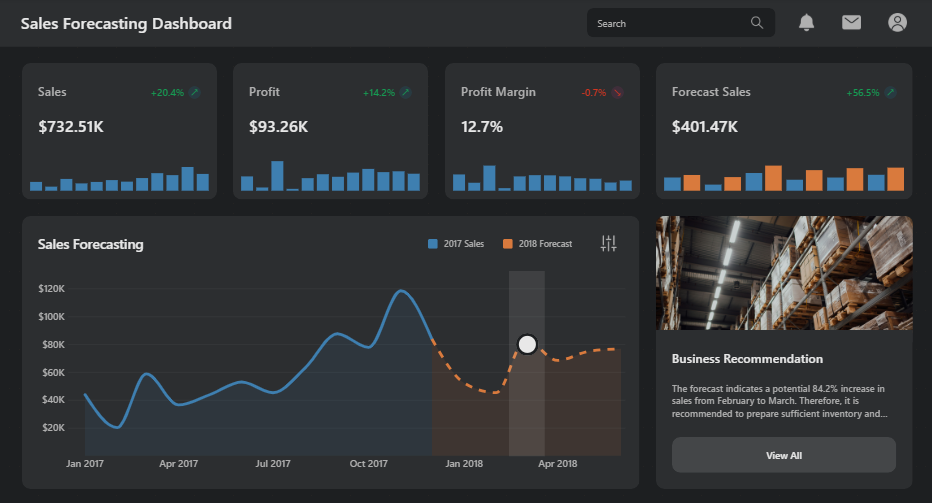

This screenshot's page, from the dashboard's own definition file:
{"tool":"powerbi","page":{"name":"Sales Forecasting Dashboard","canvas":[2300,1250],"ordinal":0},"visuals":[{"type":"shape","title":"Background","box":[-100,0,2400,120],"z":0,"group":"g2"},{"type":"group","id":"g1","title":"Sales","box":[56,160,480,336],"z":0,"group":"g4"},{"type":"shape","title":"Background","box":[56,160,480,336],"z":0,"group":"g1"},{"type":"shape","title":"Background","box":[576,160,480,336],"z":0,"group":"g3"},{"type":"shape","title":"Background","box":[1096,160,480,336],"z":0,"group":"g5"},{"type":"shape","title":"Background","box":[1616,160,632,336],"z":0,"group":"g6"},{"type":"shape","title":"Title_Forecasting","box":[96,576,440,56],"z":0,"group":"g7"},{"type":"slicer","fields":{"Values":["slicer.Navigation"]},"box":[264,0,1128,56],"z":500},{"type":"group","id":"g2","title":"Top","box":[-100,0,2400,120],"z":1000},{"type":"shape","title":"Title","box":[56,0,528,120],"z":1000,"group":"g2"},{"type":"group","id":"g3","title":"Profit","box":[576,160,480,336],"z":1000,"group":"g4"},{"type":"shape","title":"Title","box":[96,200,208,56],"z":1000,"group":"g1"},{"type":"shape","title":"Title","box":[616,200,208,56],"z":1000,"group":"g3"},{"type":"shape","title":"Title","box":[1136,200,208,56],"z":1000,"group":"g5"},{"type":"shape","title":"Title","box":[1656,200,272,56],"z":1000,"group":"g6"},{"type":"shape","title":"Legend_Box","box":[1056,592,24,24],"z":1000,"group":"g7"},{"type":"shape","title":"Search","box":[1448,24,464,72],"z":2000,"group":"g2"},{"type":"group","id":"g4","title":"KPI","box":[56,160,2192,336],"z":2000},{"type":"group","id":"g5","title":"Profit_Margin","box":[1096,160,480,336],"z":2000,"group":"g4"},{"type":"card","title":"YoY","fields":{"Values":["measure.sales_YoY_%"]},"box":[360,200,104,64],"z":2000,"group":"g1"},{"type":"card","title":"YoY","fields":{"Values":["measure.profit_YoY_%"]},"box":[880,200,104,64],"z":2000,"group":"g3"},{"type":"card","title":"YoY","fields":{"Values":["measure.profit_margin_YoY_%"]},"box":[1416,200,88,64],"z":2000,"group":"g5"},{"type":"card","title":"YoY","fields":{"Values":["measure.sales_h1_%"]},"box":[2080,200,88,64],"z":2000,"group":"g6"},{"type":"shape","title":"Legend","box":[1096,576,144,56],"z":2000,"group":"g7"},{"type":"image","title":"Zoom","box":[1848,24,40,72],"z":3000,"group":"g2"},{"type":"group","id":"g6","title":"Forecast_Sales","box":[1616,160,632,336],"z":3000,"group":"g4"},{"type":"shape","title":"YoY_Background","box":[464,216,32,32],"z":3000,"group":"g1"},{"type":"shape","title":"YoY_Background","box":[984,216,32,32],"z":3000,"group":"g3"},{"type":"shape","title":"YoY_Background","box":[1504,216,32,32],"z":3000,"group":"g5"},{"type":"shape","title":"YoY_Background","box":[2176,216,32,32],"z":3000,"group":"g6"},{"type":"shape","title":"Background","box":[56,536,1520,672],"z":3000},{"type":"shape","title":"Legend_Box","box":[1240,592,24,24],"z":3000,"group":"g7"},{"type":"image","title":"Bell","box":[1952,32,72,56],"z":4000,"group":"g2"},{"type":"card","title":"YoY_Icon","fields":{"Values":["measure.sales_YoY_Icon"]},"box":[464,216,32,32],"z":4000,"group":"g1"},{"type":"card","title":"YoY_Icon","fields":{"Values":["measure.profit_YoY_Icon"]},"box":[984,216,32,32],"z":4000,"group":"g3"},{"type":"card","title":"YoY_Icon","fields":{"Values":["measure.profit_margin_YoY_Icon"]},"box":[1504,216,32,32],"z":4000,"group":"g5"},{"type":"card","title":"YoY_Icon","fields":{"Values":["measure.sales_h1_icon"]},"box":[2176,216,32,32],"z":4000,"group":"g6"},{"type":"group","id":"g7","title":"Sales_Forecasting","box":[96,576,1480,592],"z":4000},{"type":"shape","title":"Legend","box":[1280,576,160,56],"z":4000,"group":"g7"},{"type":"image","title":"Email","box":[2064,32,72,56],"z":5000,"group":"g2"},{"type":"card","fields":{"Values":["measure.sales_2017"]},"box":[56,280,240,64],"z":5000,"group":"g1"},{"type":"card","fields":{"Values":["measure.profit_2017"]},"box":[576,280,224,64],"z":5000,"group":"g3"},{"type":"card","fields":{"Values":["measure.profit_margin_2017"]},"box":[1096,280,184,64],"z":5000,"group":"g5"},{"type":"card","fields":{"Values":["measure.sales_h1_2018"]},"box":[1616,280,240,64],"z":5000,"group":"g6"},{"type":"lineChart","title":"Line Chart","fields":{"Category":["df.order_date"],"Y":["measure.sales_2017","measure.sales_forecast"]},"box":[96,672,1480,496],"z":5000,"group":"g7"},{"type":"image","title":"User","box":[2176,32,72,56],"z":6000,"group":"g2"},{"type":"clusteredColumnChart","title":"Bar Chart","fields":{"Category":["df.month_short"],"Y":["measure.sales_2017"]},"box":[56,392,480,104],"z":6000,"group":"g1"},{"type":"clusteredColumnChart","title":"Bar Chart","fields":{"Category":["df.month_short"],"Y":["measure.profit_2017"]},"box":[576,392,480,104],"z":6000,"group":"g3"},{"type":"clusteredColumnChart","title":"Bar Chart","fields":{"Category":["df.month_short"],"Y":["measure.profit_margin_2017"]},"box":[1096,392,480,104],"z":6000,"group":"g5"},{"type":"clusteredColumnChart","title":"Bar Chart","fields":{"Category":["df.month_short"],"Y":["measure.sales_h1_2017","measure.sales_h1_2018"]},"box":[1616,392,632,104],"z":6000,"group":"g6"},{"type":"shape","title":"Highlight_Background","box":[1256,672,88,456],"z":6000,"group":"g7"},{"type":"image","title":"Navigation_Icon","box":[1464,576,72,56],"z":7000},{"type":"shape","title":"Highlight","box":[1272,824,56,56],"z":7000,"group":"g7"},{"type":"shape","title":"Background","box":[1616,536,632,672],"z":9000},{"type":"image","box":[1616,536,632,300],"z":10000},{"type":"shape","title":"Border","box":[1616,816,632,30],"z":11000},{"type":"shape","title":"Title","box":[1656,856,416,56],"z":12000},{"type":"shape","title":"Text","box":[1656,936,536,112],"z":13000},{"type":"shape","title":"View_All","box":[1656,1080,552,88],"z":14000}]}

Visuals, with their boxes in screenshot pixels (x1, y1, x2, y2), scaled from the page's 2300x1250 canvas onto the 932x503 screenshot:
"Background" shape: [x1=0, y1=0, x2=931, y2=48]
"Sales" group: [x1=23, y1=64, x2=217, y2=200]
"Background" shape: [x1=23, y1=64, x2=217, y2=200]
"Background" shape: [x1=233, y1=64, x2=428, y2=200]
"Background" shape: [x1=444, y1=64, x2=639, y2=200]
"Background" shape: [x1=655, y1=64, x2=911, y2=200]
"Title_Forecasting" shape: [x1=39, y1=232, x2=217, y2=254]
slicer - slicer.Navigation: [x1=107, y1=0, x2=564, y2=23]
"Top" group: [x1=0, y1=0, x2=931, y2=48]
"Title" shape: [x1=23, y1=0, x2=237, y2=48]
"Profit" group: [x1=233, y1=64, x2=428, y2=200]
"Title" shape: [x1=39, y1=80, x2=123, y2=103]
"Title" shape: [x1=250, y1=80, x2=334, y2=103]
"Title" shape: [x1=460, y1=80, x2=545, y2=103]
"Title" shape: [x1=671, y1=80, x2=781, y2=103]
"Legend_Box" shape: [x1=428, y1=238, x2=438, y2=248]
"Search" shape: [x1=587, y1=10, x2=775, y2=39]
"KPI" group: [x1=23, y1=64, x2=911, y2=200]
"Profit_Margin" group: [x1=444, y1=64, x2=639, y2=200]
"YoY" card: [x1=146, y1=80, x2=188, y2=106]
"YoY" card: [x1=357, y1=80, x2=399, y2=106]
"YoY" card: [x1=574, y1=80, x2=609, y2=106]
"YoY" card: [x1=843, y1=80, x2=879, y2=106]
"Legend" shape: [x1=444, y1=232, x2=502, y2=254]
"Zoom" image: [x1=749, y1=10, x2=765, y2=39]
"Forecast_Sales" group: [x1=655, y1=64, x2=911, y2=200]
"YoY_Background" shape: [x1=188, y1=87, x2=201, y2=100]
"YoY_Background" shape: [x1=399, y1=87, x2=412, y2=100]
"YoY_Background" shape: [x1=609, y1=87, x2=622, y2=100]
"YoY_Background" shape: [x1=882, y1=87, x2=895, y2=100]
"Background" shape: [x1=23, y1=216, x2=639, y2=486]
"Legend_Box" shape: [x1=502, y1=238, x2=512, y2=248]
"Bell" image: [x1=791, y1=13, x2=820, y2=35]
"YoY_Icon" card: [x1=188, y1=87, x2=201, y2=100]
"YoY_Icon" card: [x1=399, y1=87, x2=412, y2=100]
"YoY_Icon" card: [x1=609, y1=87, x2=622, y2=100]
"YoY_Icon" card: [x1=882, y1=87, x2=895, y2=100]
"Sales_Forecasting" group: [x1=39, y1=232, x2=639, y2=470]
"Legend" shape: [x1=519, y1=232, x2=584, y2=254]
"Email" image: [x1=836, y1=13, x2=866, y2=35]
card - measure.sales_2017: [x1=23, y1=113, x2=120, y2=138]
card - measure.profit_2017: [x1=233, y1=113, x2=324, y2=138]
card - measure.profit_margin_2017: [x1=444, y1=113, x2=519, y2=138]
card - measure.sales_h1_2018: [x1=655, y1=113, x2=752, y2=138]
"Line Chart" lineChart: [x1=39, y1=270, x2=639, y2=470]
"User" image: [x1=882, y1=13, x2=911, y2=35]
"Bar Chart" clusteredColumnChart: [x1=23, y1=158, x2=217, y2=200]
"Bar Chart" clusteredColumnChart: [x1=233, y1=158, x2=428, y2=200]
"Bar Chart" clusteredColumnChart: [x1=444, y1=158, x2=639, y2=200]
"Bar Chart" clusteredColumnChart: [x1=655, y1=158, x2=911, y2=200]
"Highlight_Background" shape: [x1=509, y1=270, x2=545, y2=454]
"Navigation_Icon" image: [x1=593, y1=232, x2=622, y2=254]
"Highlight" shape: [x1=515, y1=332, x2=538, y2=354]
"Background" shape: [x1=655, y1=216, x2=911, y2=486]
image: [x1=655, y1=216, x2=911, y2=336]
"Border" shape: [x1=655, y1=328, x2=911, y2=340]
"Title" shape: [x1=671, y1=344, x2=840, y2=367]
"Text" shape: [x1=671, y1=377, x2=888, y2=422]
"View_All" shape: [x1=671, y1=435, x2=895, y2=470]
